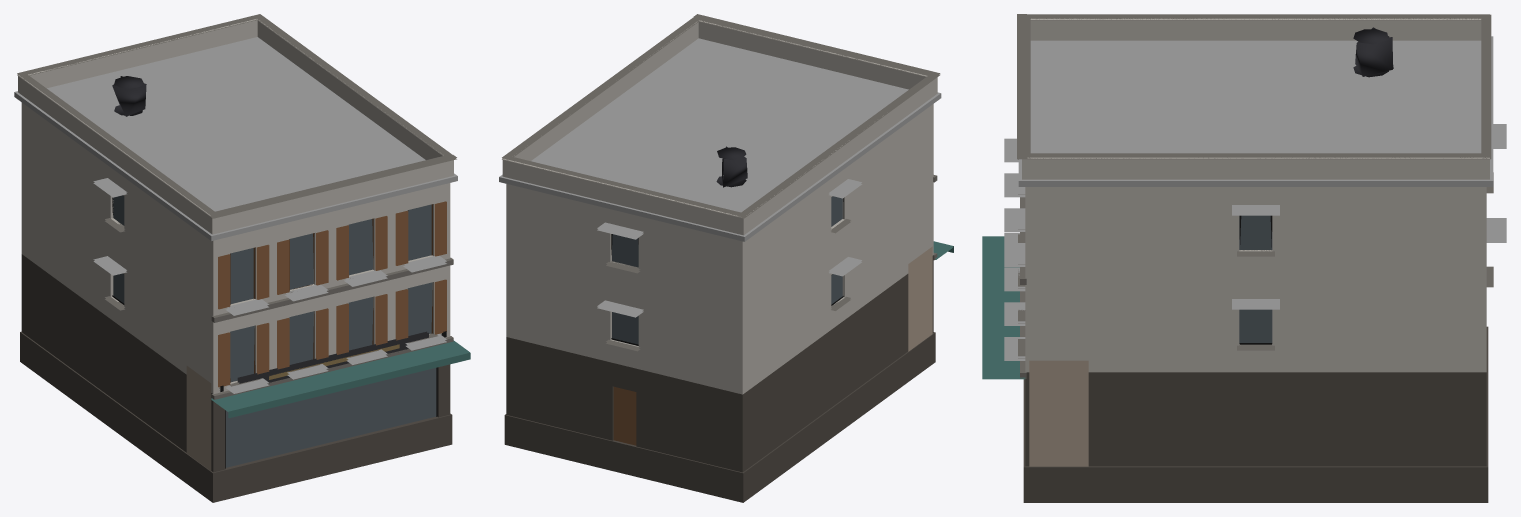
The model's file is shop_house_10x14_3_far.glb.
3 views of the same model, side by side, from view 1: azimuth 30°, elevation 25°; view 2: azimuth 150°, elevation 25°; view 3: azimuth 270°, elevation 25° (orthographic). The views are drawn at different scales.
Visible parts, largest first — view 1: shop_house_10x14_3; view 2: shop_house_10x14_3; view 3: shop_house_10x14_3.
Boxes of the visible parts, x1,y1,x2,y2 form: shop_house_10x14_3: (14, 14, 470, 502); shop_house_10x14_3: (499, 14, 953, 502); shop_house_10x14_3: (982, 14, 1506, 502).
Size of the model in its own units: 11.22 by 12.1 by 15.92.
